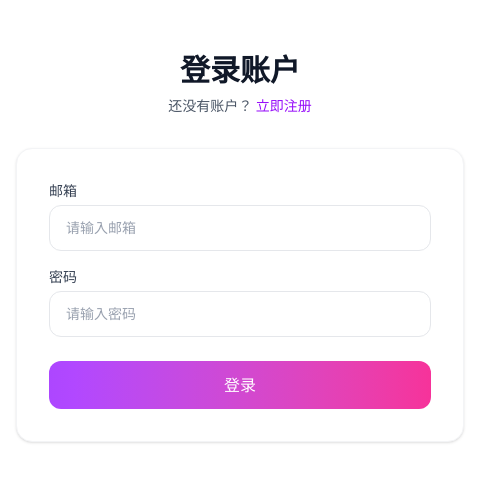
Scenario: Login › should clear error message on new submit attempt
In the field labelled "邮箱": (240, 228) left=49, top=205, right=431, bottom=251, type "test@test.com"
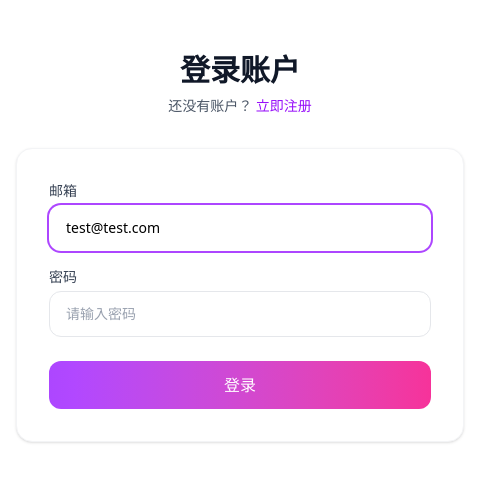
In the password field labelled "密码": (240, 314) left=49, top=291, right=431, bottom=337, type "wrong"
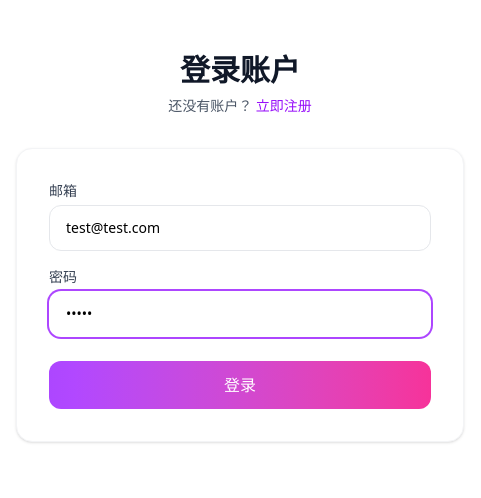
Click the button "登录": click(240, 385) left=49, top=361, right=431, bottom=409
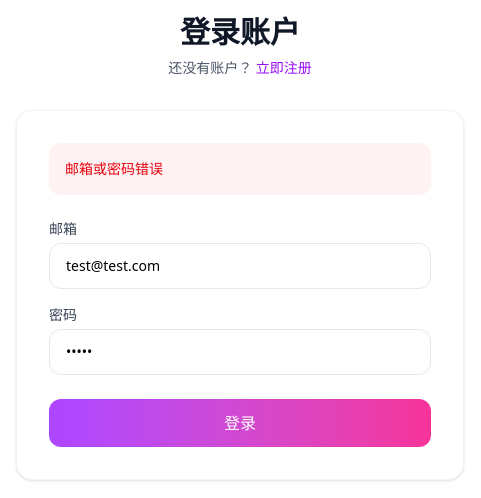
Expected: the text "邮箱或密码错误" is shown, left=49, top=143, right=431, bottom=195
In the password field labelled "密码": (240, 352) left=49, top=329, right=431, bottom=375, type "correct"
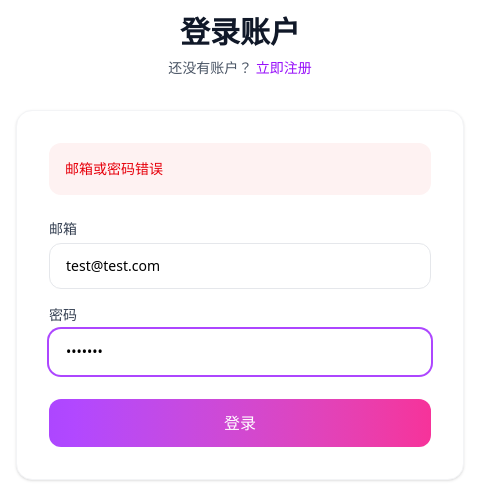
Click the button "登录": click(240, 423) left=49, top=399, right=431, bottom=447
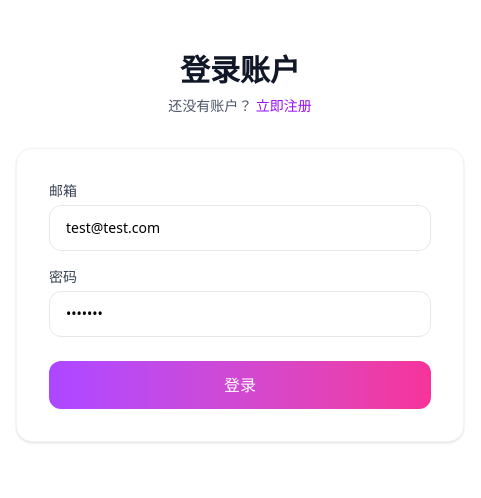
Expected: the text "邮箱或密码错误" is gone
